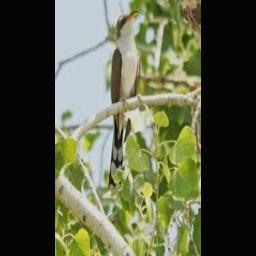Cuckoo: (108, 11, 141, 194)
